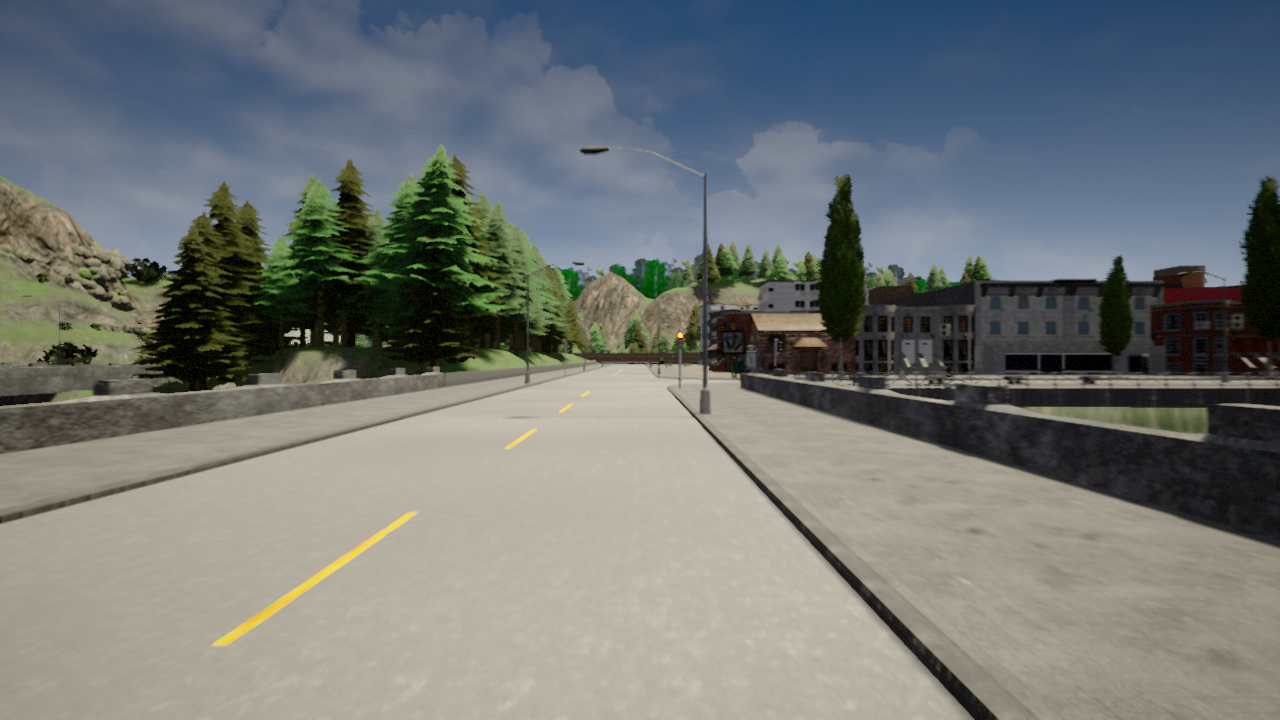red: (676, 331, 685, 349)
